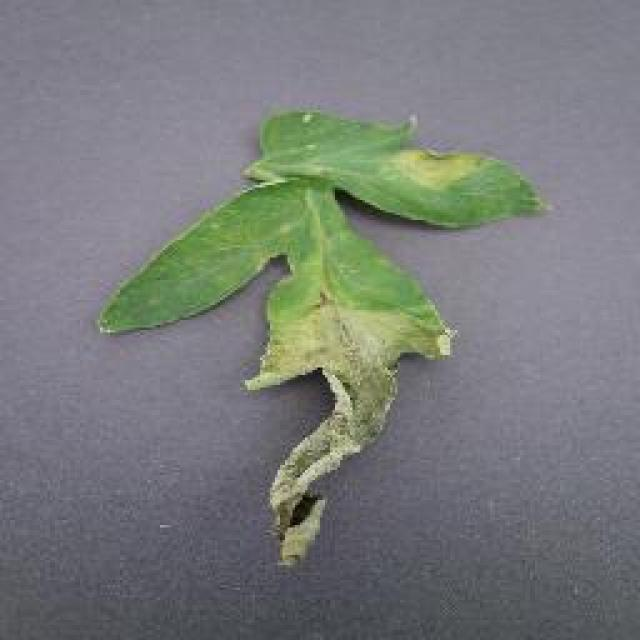Tomato___Late_blight: (89, 105, 561, 564)
